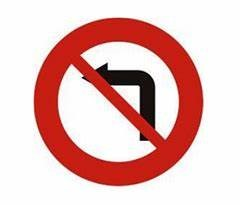No_turn_left: (32, 16, 206, 188)
